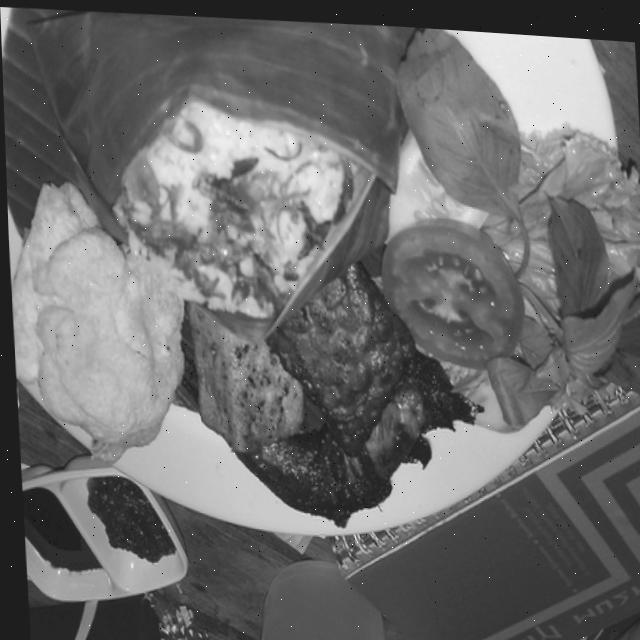米饭主食: (0, 0, 618, 588)
